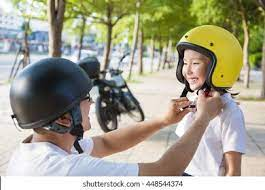helmets: (4, 48, 104, 140), (175, 24, 243, 91)
